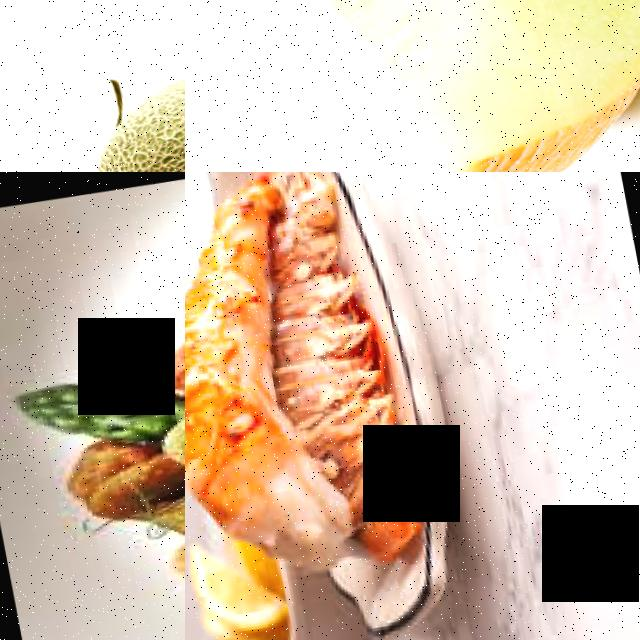lemon: (185, 527, 283, 640)
lobster tails: (185, 180, 319, 510)
melon: (185, 0, 640, 172), (67, 11, 185, 172)
